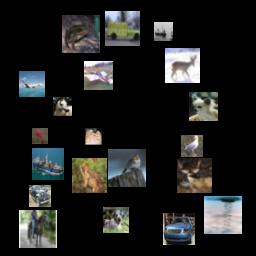airplane: (204, 196, 242, 234), (84, 61, 113, 90), (19, 71, 45, 97)
automobile: (163, 213, 195, 245), (29, 185, 51, 207)
bird: (108, 149, 146, 187), (181, 135, 203, 157)
cat: (84, 127, 103, 146)
deer: (165, 48, 200, 83), (177, 158, 212, 193), (32, 128, 48, 144)
dog: (189, 92, 218, 121), (103, 207, 129, 233)
frog: (62, 15, 100, 53), (72, 158, 107, 193)
ship: (32, 148, 64, 180), (154, 22, 173, 41)
truck: (105, 11, 140, 46)
